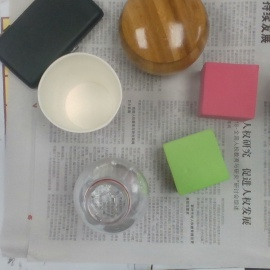bottle: (72, 158, 148, 235)
chess: (119, 1, 210, 76)
cup: (40, 53, 122, 135)
